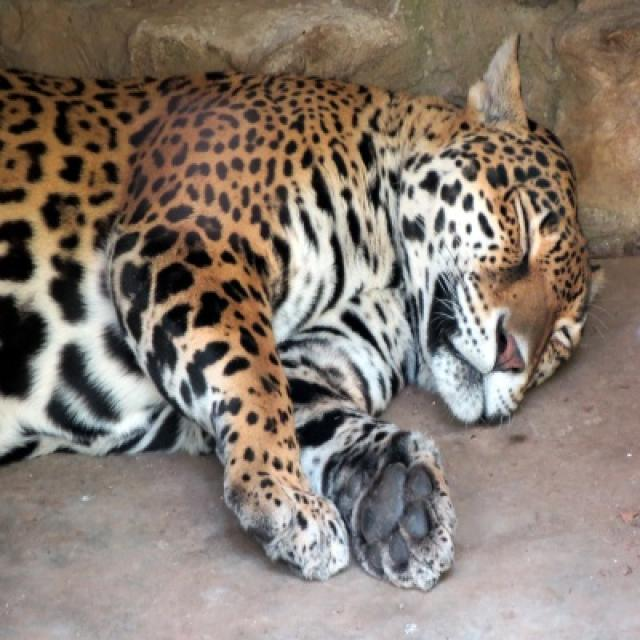Jaguar: (0, 38, 594, 595)
